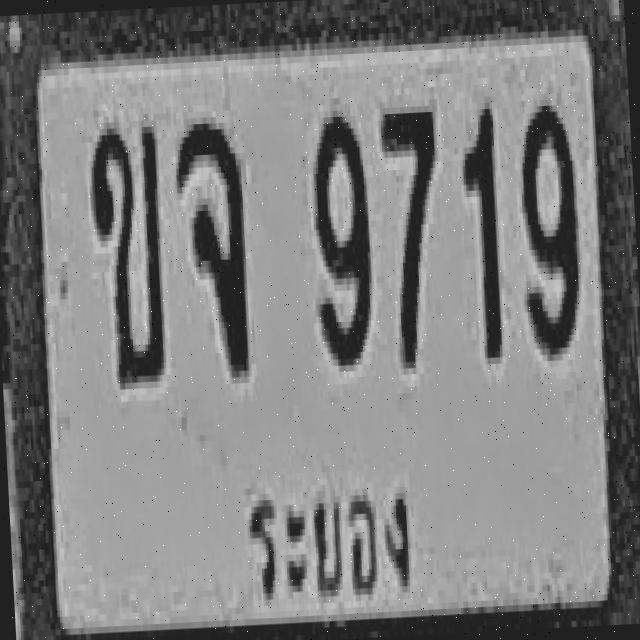1: (460, 102, 506, 358)
11KhorKhai: (86, 120, 167, 384)
17ChorChan: (172, 119, 250, 377)
7: (380, 106, 446, 369)
9: (516, 98, 582, 356), (308, 110, 374, 366)
Rayong: (237, 445, 422, 621)
